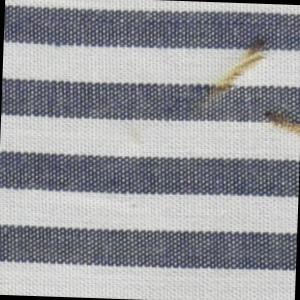Oil Stain: (198, 29, 300, 146)
